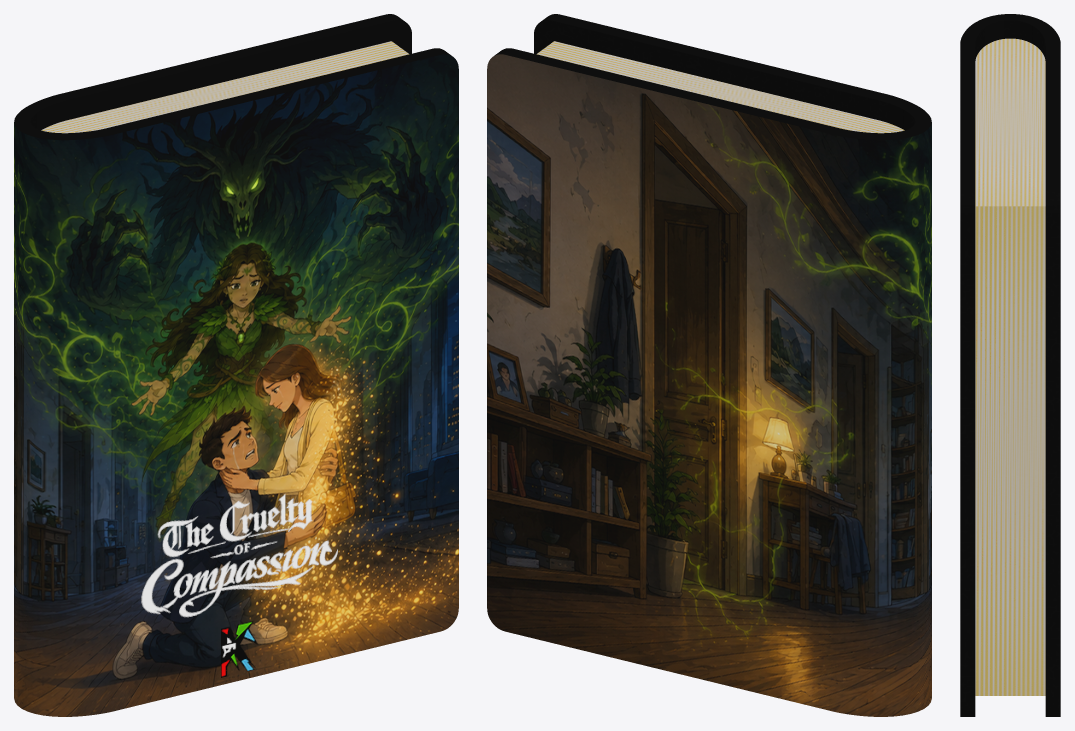
The model's file is bookmodel.glb.
The picture shows the model from 3 angles, left to right: view 1: azimuth 30°, elevation 25°; view 2: azimuth 150°, elevation 25°; view 3: azimuth 270°, elevation 25°; orthographic projection. The views are drawn at different scales.
Visible parts, largest first — view 1: Cube.001; view 2: Cube.001; view 3: Cube.001.
Boxes of the visible parts, left/top/right/bottom form: Cube.001: left=14, top=14, right=458, bottom=716; Cube.001: left=487, top=14, right=931, bottom=716; Cube.001: left=960, top=14, right=1060, bottom=716.
Bounding box in the file's own units: 3.72 × 4.99 × 0.8619.
Materials: 1 (1 with a texture image).
